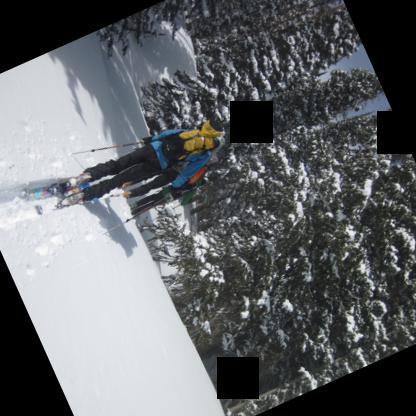backpack: (159, 119, 223, 161), (167, 181, 196, 200), (202, 153, 217, 166)
